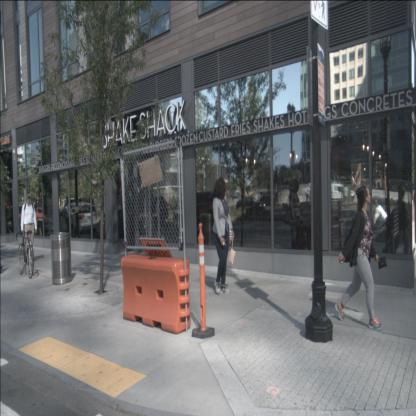human-pedestrian-adult: (334, 185, 388, 331), (211, 177, 235, 294), (21, 193, 38, 264)
movable_object-barrier: (120, 253, 191, 335)
movable_object-trafficcone: (191, 222, 215, 340)
vehicle-bicycle: (16, 230, 34, 279)
vehicle-car: (173, 192, 227, 229), (56, 202, 97, 238), (130, 196, 170, 229), (236, 198, 266, 214), (323, 183, 344, 205)
vehicle-truck: (290, 202, 320, 251), (16, 205, 46, 229)
